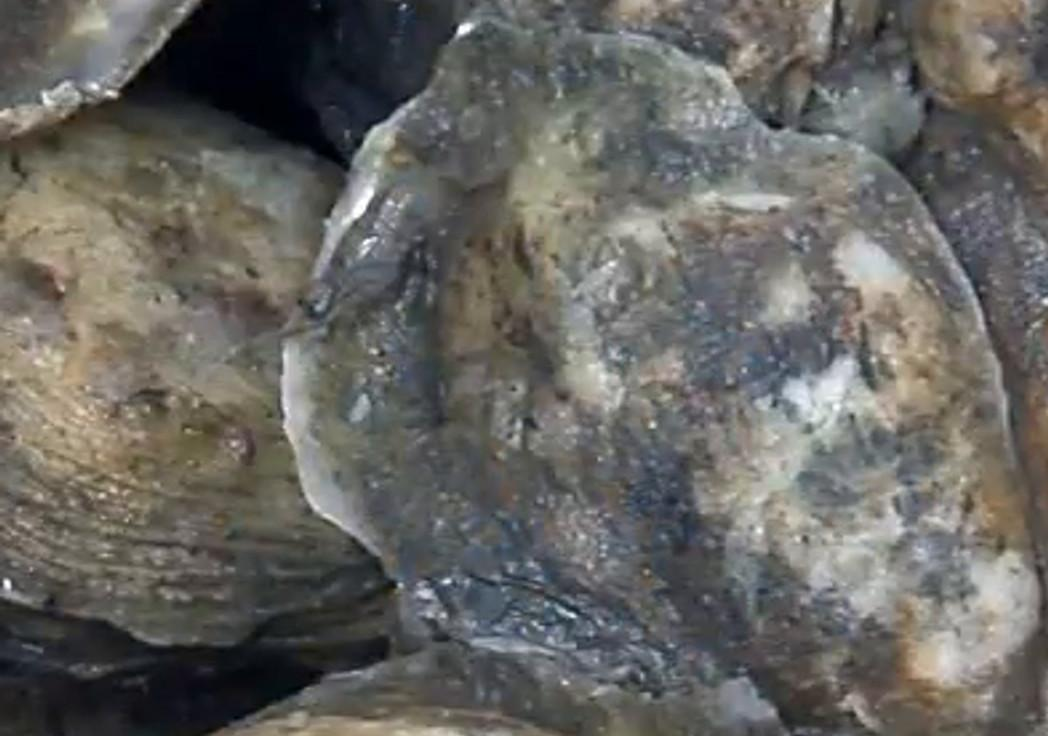Oyster- Indeterminate: (280, 13, 1048, 736), (464, 0, 887, 123), (0, 0, 200, 140)
Oyster-Closed: (0, 85, 414, 675), (899, 107, 1048, 573), (217, 647, 787, 736), (902, 0, 1048, 182), (272, 0, 455, 143)
